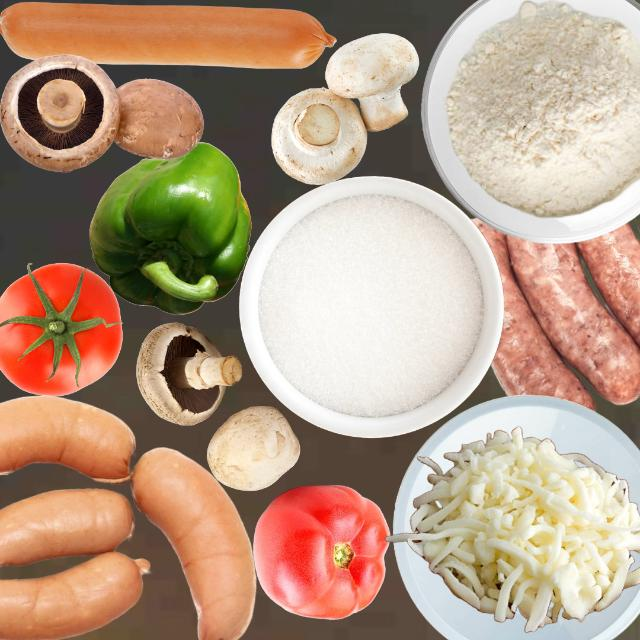Flour: (445, 0, 639, 216)
Sugar: (257, 192, 483, 416)
